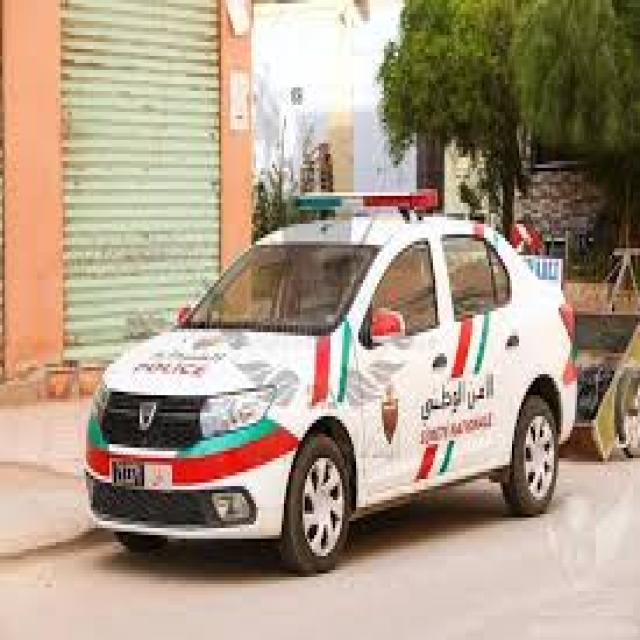police: (85, 190, 578, 576)
